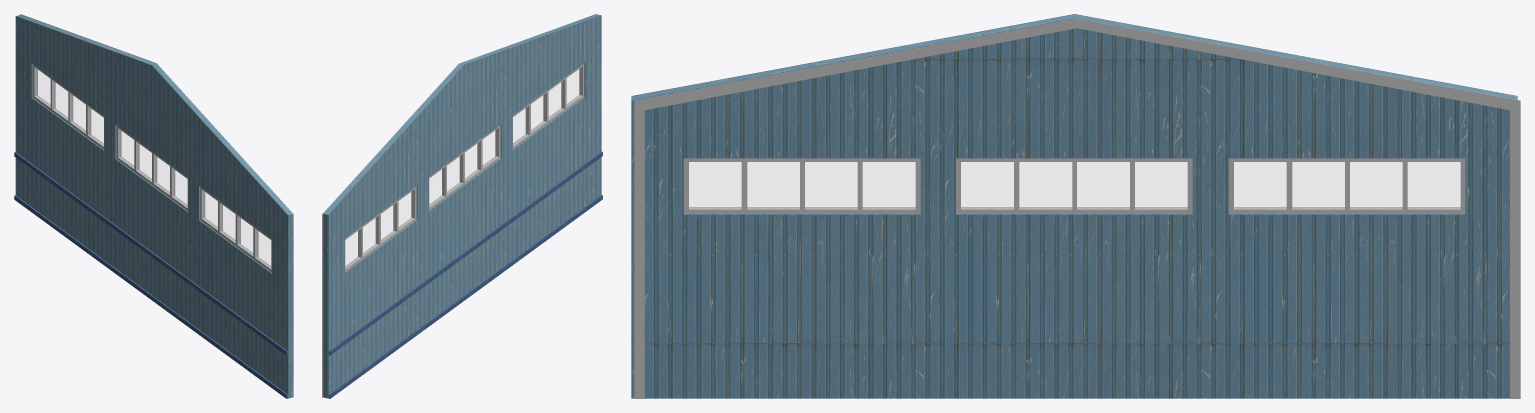
Rendered from WarehauseWallBack.FBX.
The picture shows the model from 3 angles, left to right: view 1: azimuth 30°, elevation 25°; view 2: azimuth 150°, elevation 25°; view 3: azimuth 270°, elevation 25°; orthographic projection. The views are drawn at different scales.
Parts seen in each view (by area): view 1: WarehauseWallBack, WarehauseWindows, WarehauseMetal02; view 2: WarehauseWallBack, WarehauseWindows, WarehauseMetal02, WarehauseMetal01; view 3: WarehauseWallBack, WarehauseMetal01, WarehauseWindows.
Boxes of the visible parts, x1,y1,x2,y2 form: WarehauseWallBack: (15, 14, 293, 398); WarehauseWindows: (32, 64, 271, 272); WarehauseMetal02: (14, 152, 287, 398); WarehauseWallBack: (323, 14, 601, 398); WarehauseWindows: (345, 64, 584, 271); WarehauseMetal02: (329, 151, 602, 398); WarehauseMetal01: (322, 64, 458, 397); WarehauseWallBack: (631, 14, 1517, 398); WarehauseMetal01: (634, 18, 1520, 398); WarehauseWindows: (683, 158, 1465, 213).
Size of the model in its own units: 10.07 by 313 by 663.
